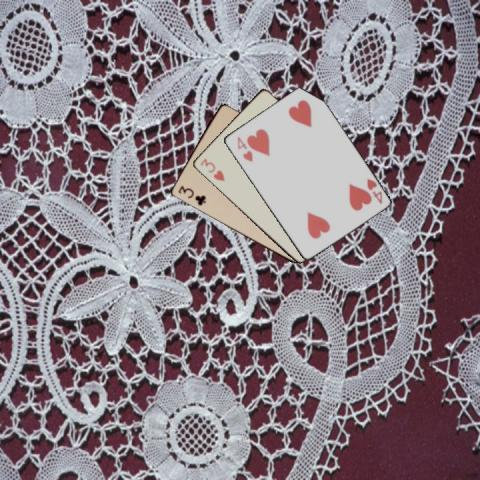3c: (176, 183, 208, 207)
3h: (197, 155, 226, 183)
4h: (363, 176, 384, 206), (234, 134, 254, 164)
